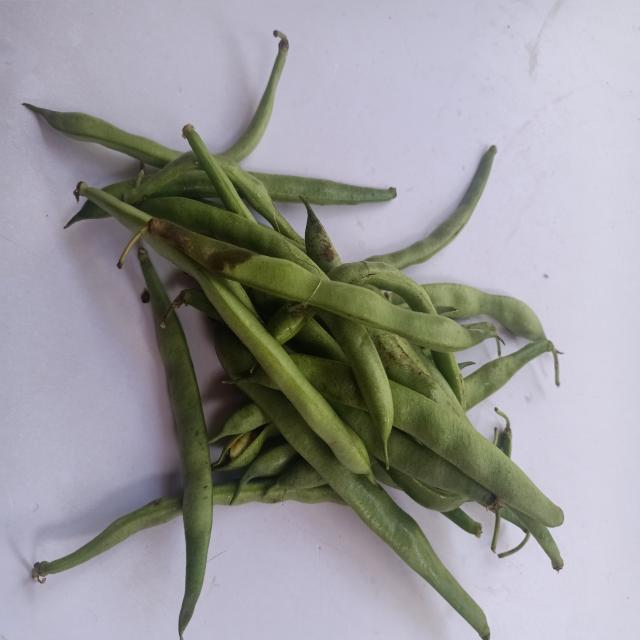Beans: (239, 383, 490, 639), (142, 231, 375, 486), (146, 218, 497, 352), (137, 246, 212, 639), (390, 381, 565, 527), (388, 427, 496, 507), (75, 182, 151, 235), (333, 404, 385, 462)
